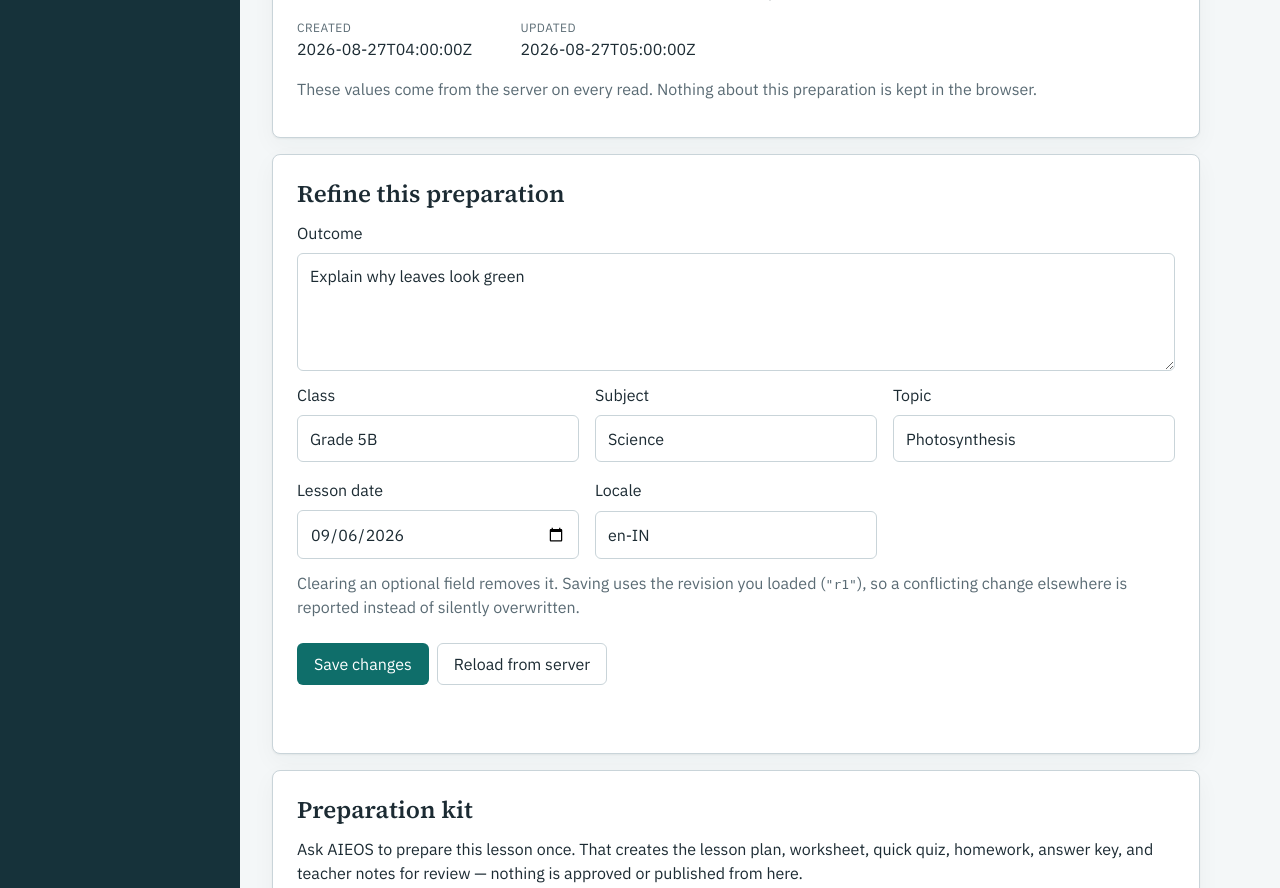
Test case: G. Work refinement uses If-Match and Idempotency-Key › reports a missing precondition (428) plainly
The width and height of the screenshot is (1280, 888).
(page scrolled)
Expected: the heading "Refine this preparation" is shown, [297, 176, 564, 210]
Clear the field labelled "Subject". click: (736, 439)
box: [595, 415, 877, 462]
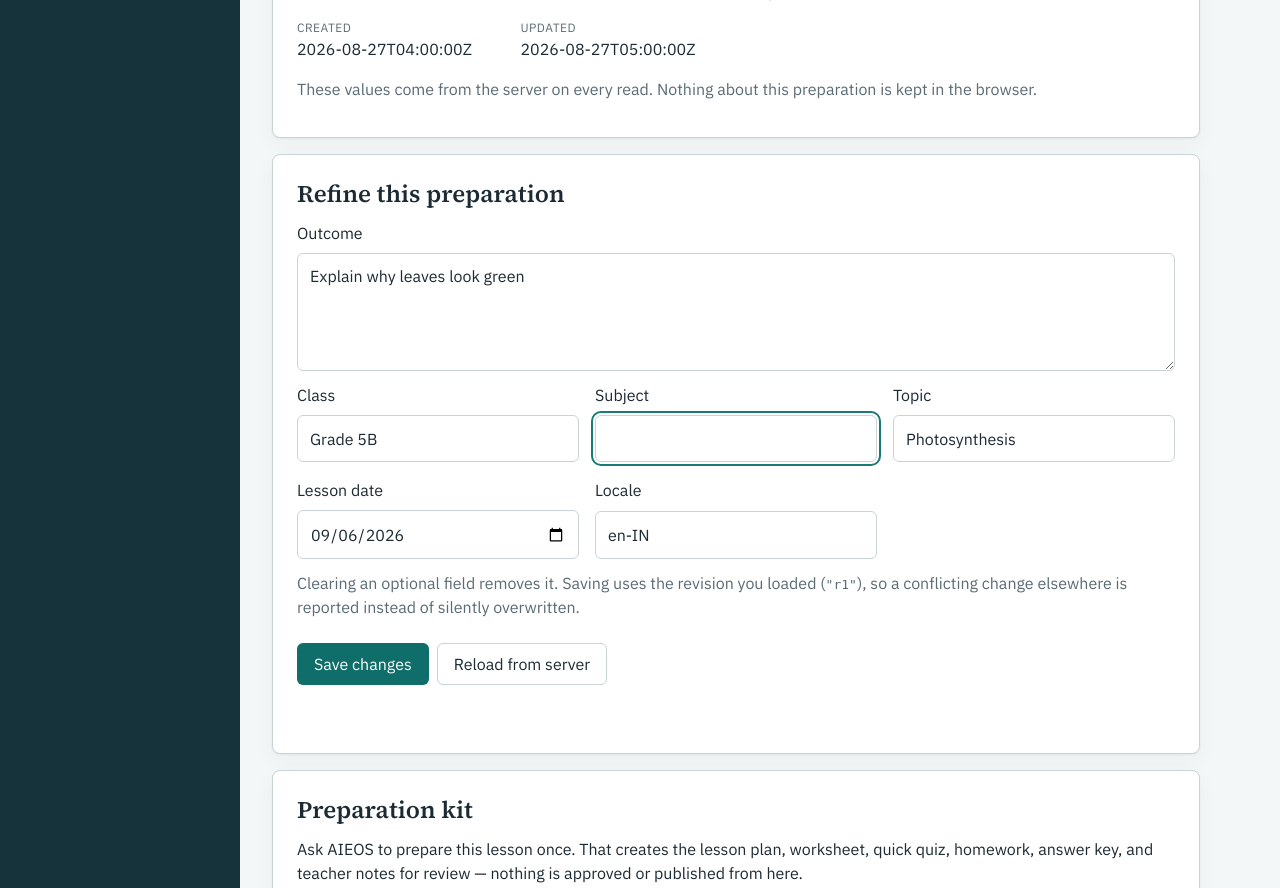
Click the button "Save changes". click: click(363, 664)
box: [297, 643, 429, 685]
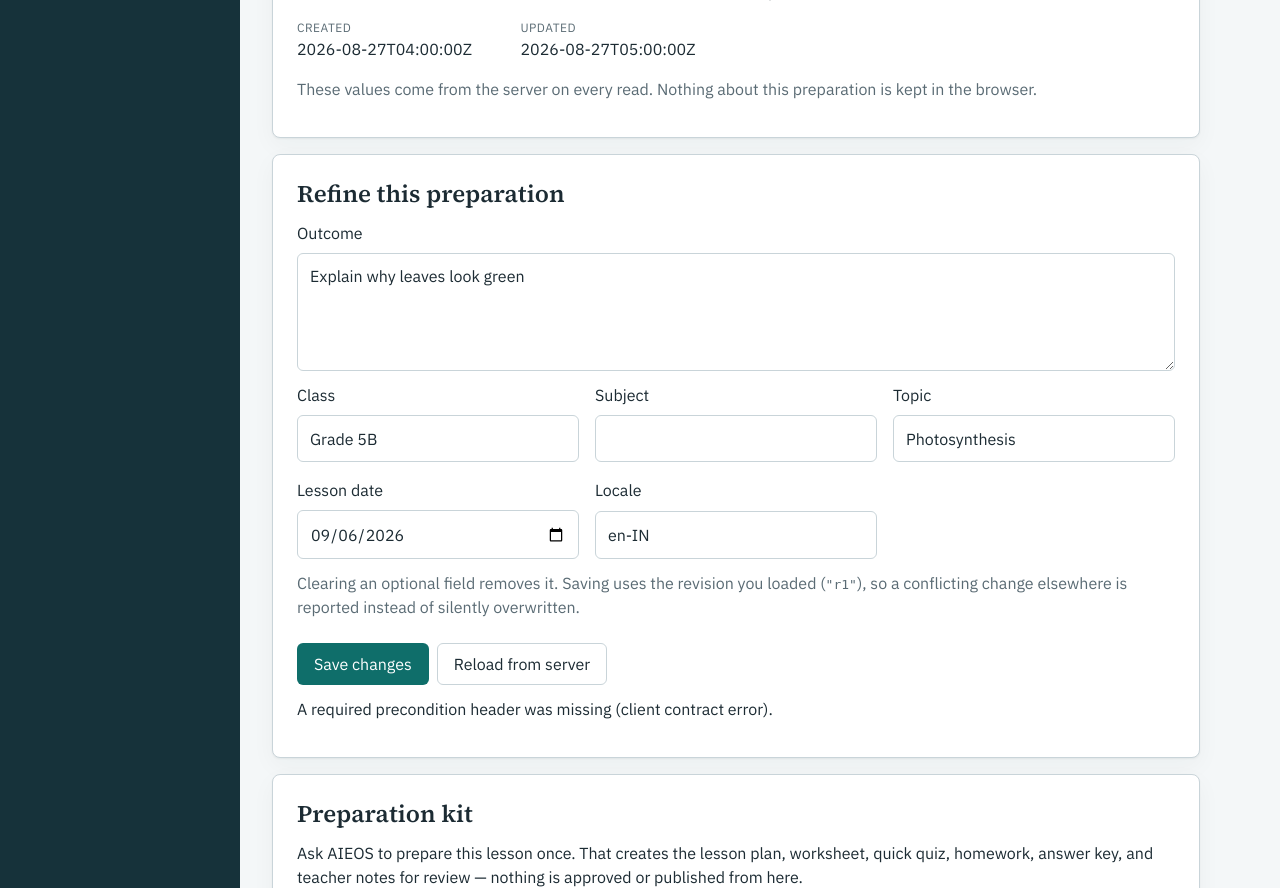
Result: the text "A required precondition header was missing (client contract error)." is shown at [297, 699, 773, 719]
